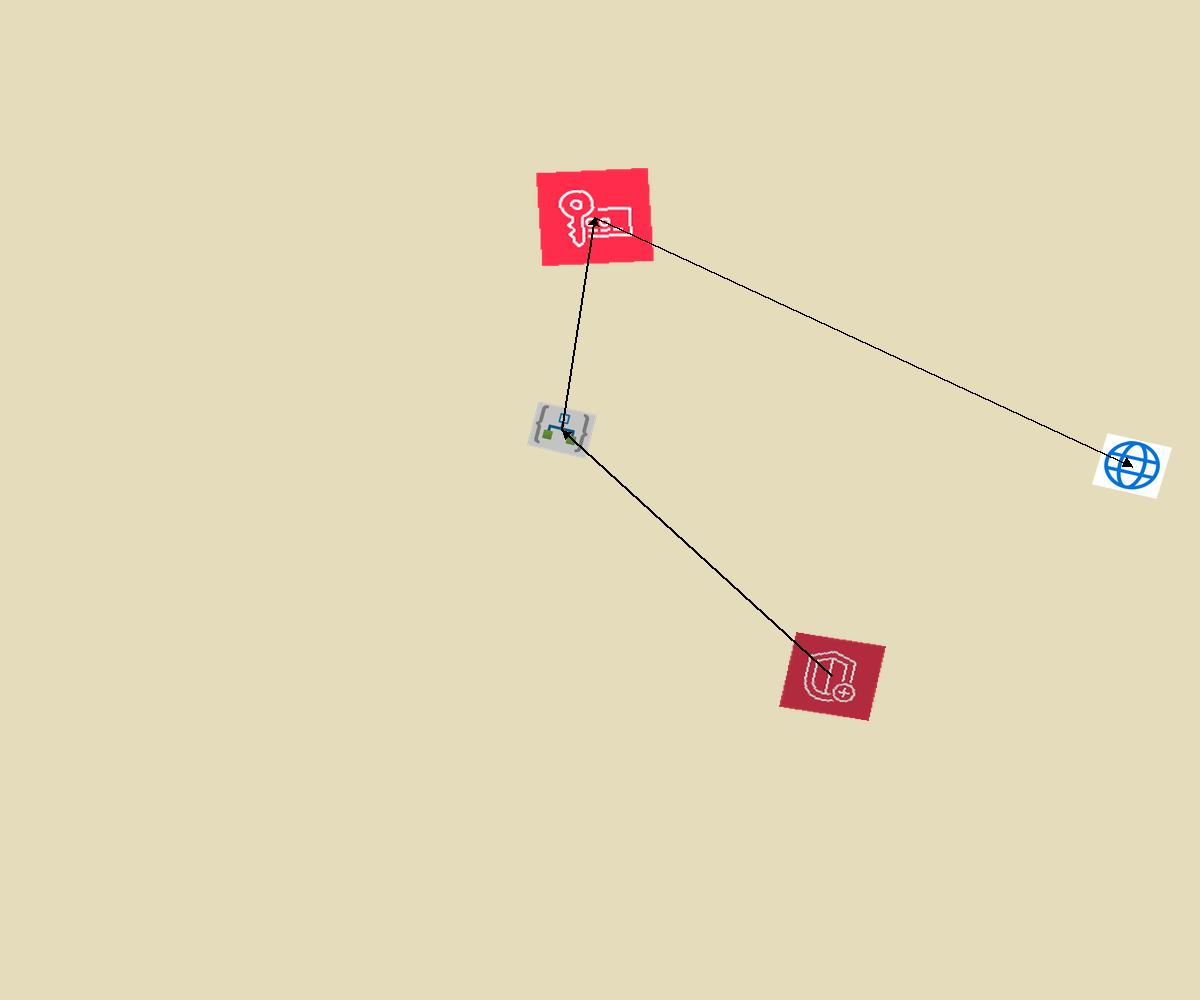AWS-Key-Management-Service: (535, 167, 655, 267)
AWS-Shield: (779, 632, 886, 721)
Azure_http: (1092, 433, 1172, 499)
Azure_integration-204-Logic-Apps: (527, 401, 597, 459)
